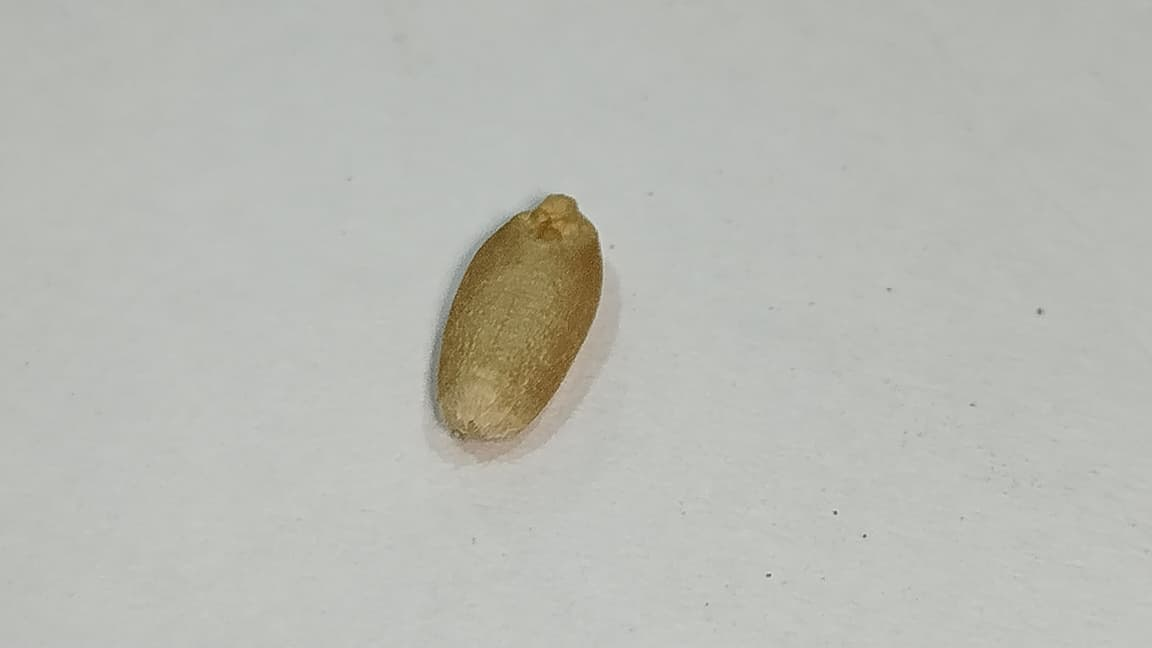healthy: (437, 195, 602, 438)
